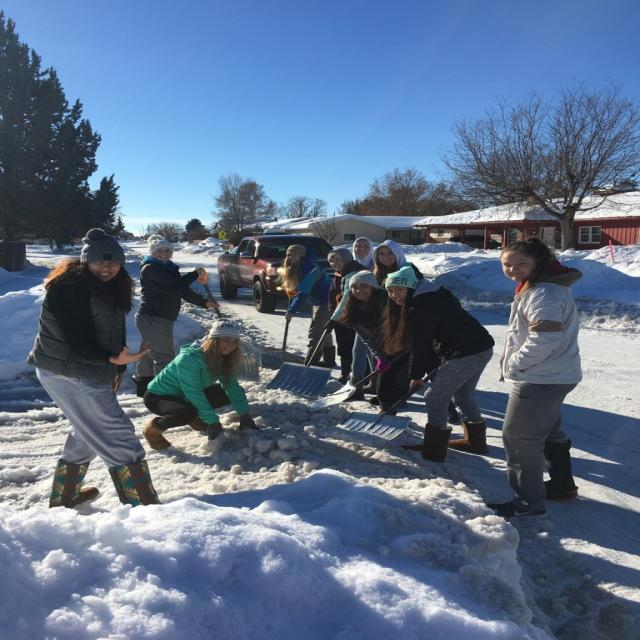body: (50, 470, 640, 640), (159, 345, 640, 470), (23, 226, 164, 510), (476, 235, 584, 521), (380, 264, 497, 466), (137, 316, 265, 452), (131, 232, 221, 402), (346, 239, 426, 395), (343, 270, 414, 418), (320, 246, 378, 390), (279, 241, 337, 370), (350, 236, 375, 272)
